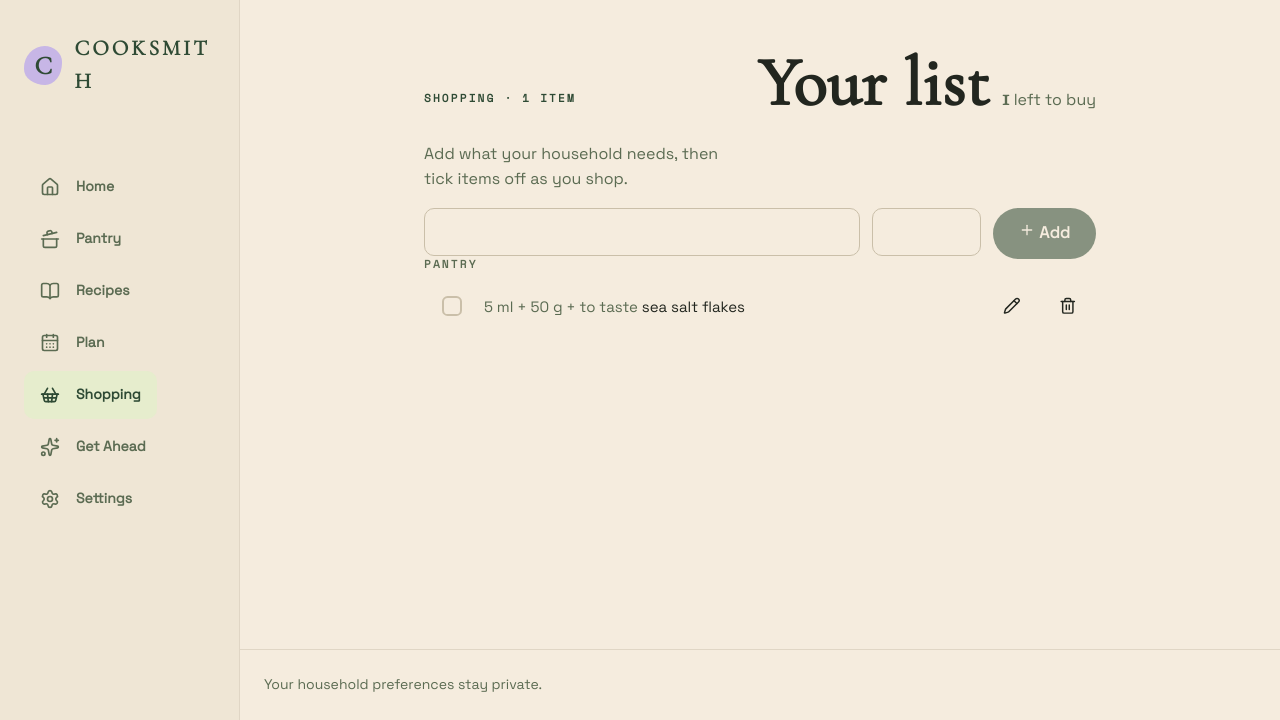
it: clean combined purchases › shows one row without recipe disclosures and completes/restores all source members
Expected: the text "sea salt flakes" is shown, [642,297,745,316]
Expected: the text "5 ml + 50 g + to taste" is shown, [484,297,642,316]
Step 1. Click the button named "Mark as done: sea salt flakes" → (452, 306), box [428,282,476,330]
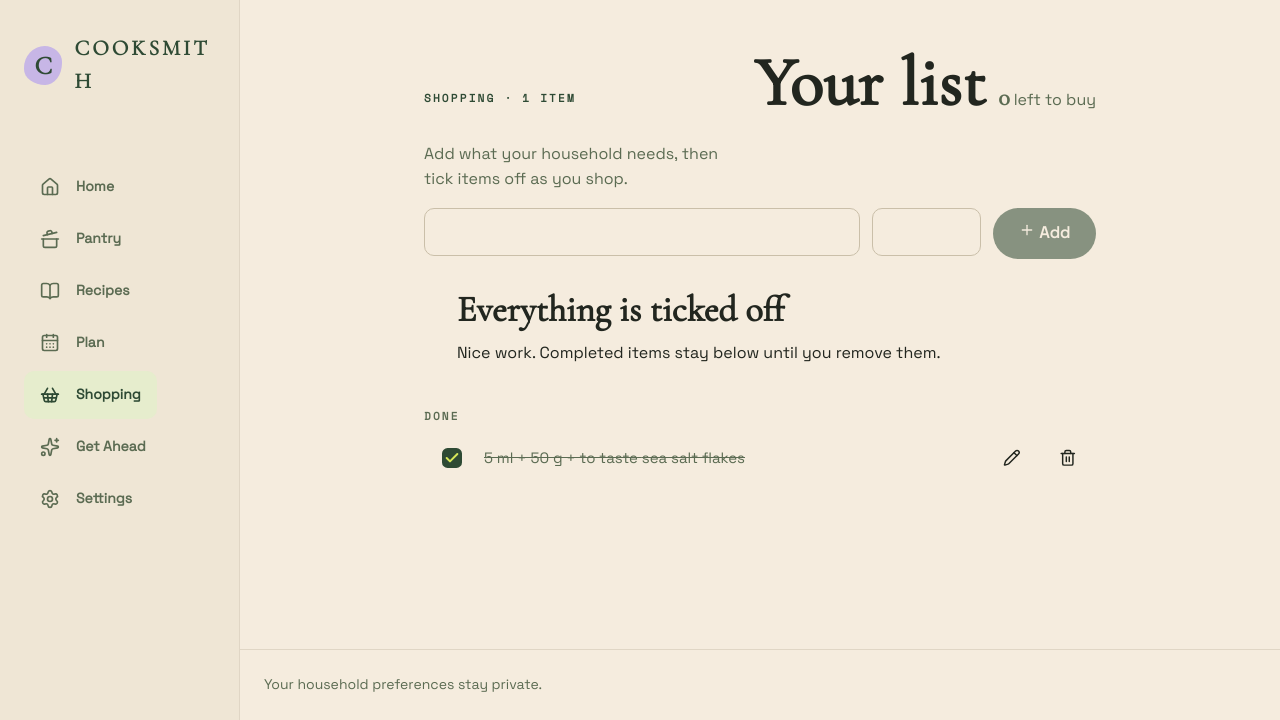
Now the button named "Mark as needed: sea salt flakes" is shown
Step 2. Click the button named "Mark as needed: sea salt flakes" → (452, 458), box [428,434,476,482]
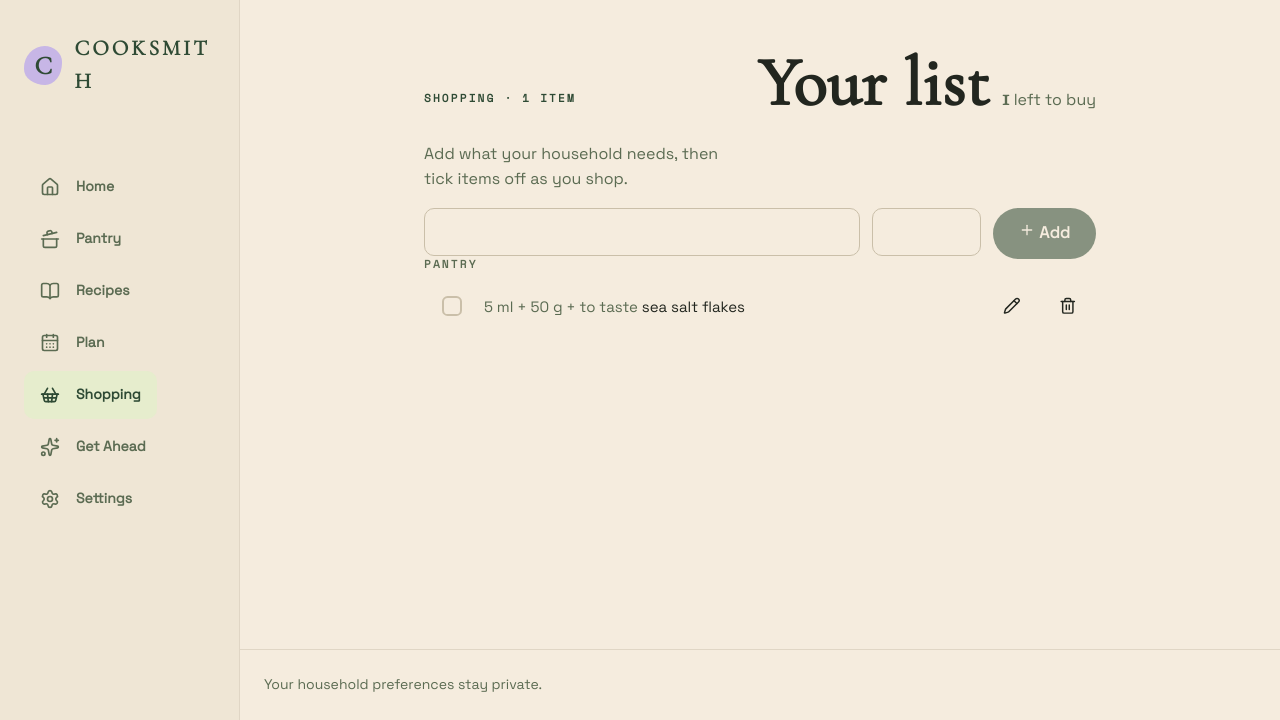
Now the button named "Mark as done: sea salt flakes" is shown, box [428,282,476,330]
